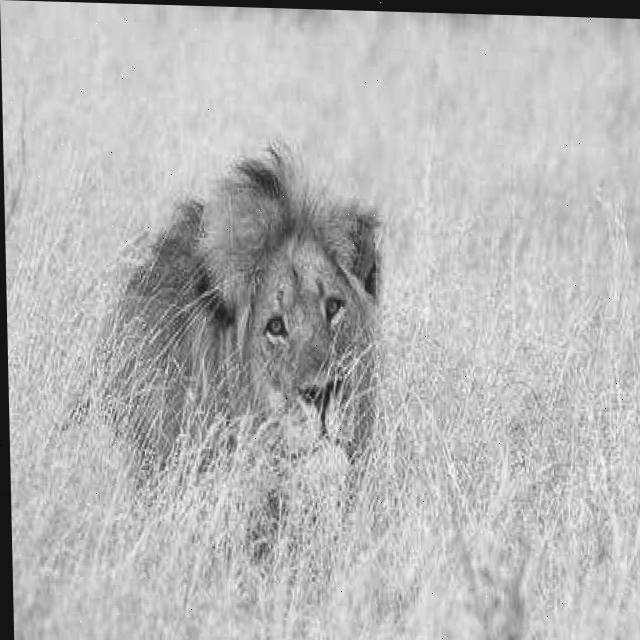Lion: (128, 154, 384, 518)
